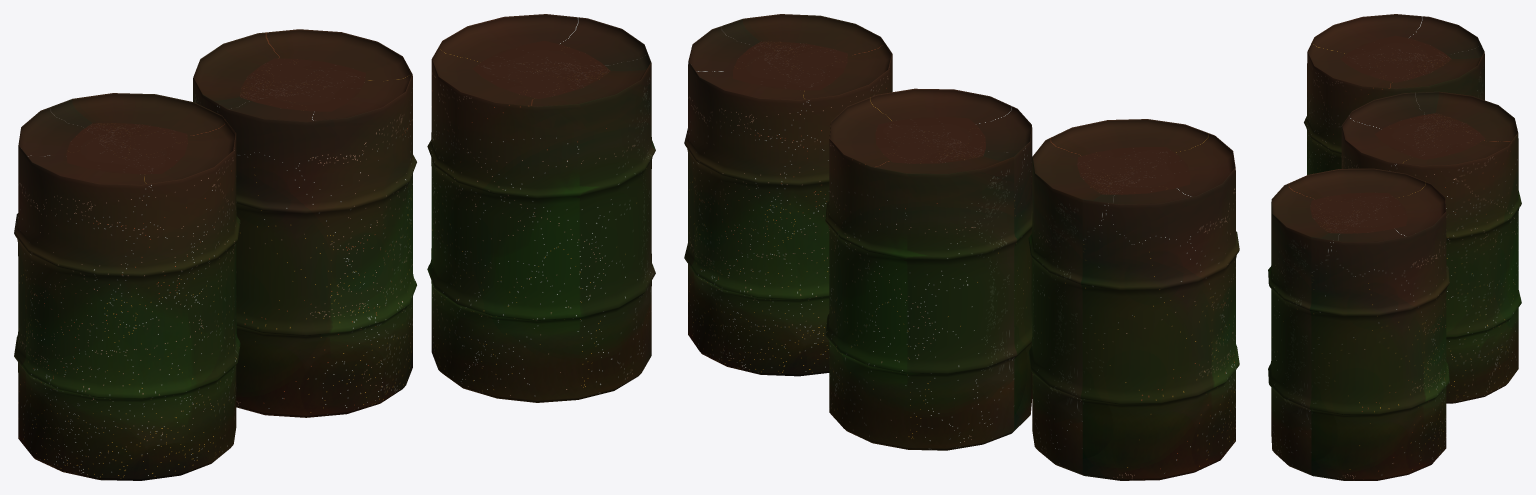
The model's file is Container.fbx.
3 views of the same model, side by side, from view 1: azimuth 30°, elevation 25°; view 2: azimuth 150°, elevation 25°; view 3: azimuth 270°, elevation 25° (orthographic). The views are drawn at different scales.
Visible parts, largest first — view 1: Cylinder.002, Cylinder, Cylinder.001; view 2: Cylinder, Cylinder.001, Cylinder.002; view 3: Cylinder.002, Cylinder.001, Cylinder.
Part boxes in pixels (x1=…): Cylinder.002: x1=427, y1=14, x2=655, y2=402; Cylinder: x1=14, y1=93, x2=240, y2=480; Cylinder.001: x1=193, y1=29, x2=416, y2=417; Cylinder: x1=1028, y1=119, x2=1239, y2=480; Cylinder.001: x1=825, y1=88, x2=1032, y2=450; Cylinder.002: x1=684, y1=14, x2=892, y2=376; Cylinder.002: x1=1268, y1=168, x2=1449, y2=480; Cylinder.001: x1=1341, y1=91, x2=1521, y2=403; Cylinder: x1=1304, y1=14, x2=1484, y2=174.
Size of the model in its own units: 15.95 by 7.82 by 7.4.
1 material, 1 textured.
